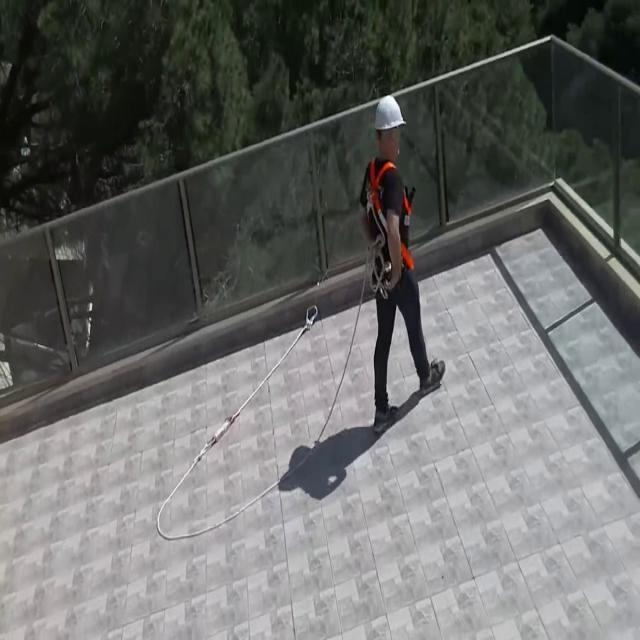Arnes_seguridad: (361, 158, 415, 297)
